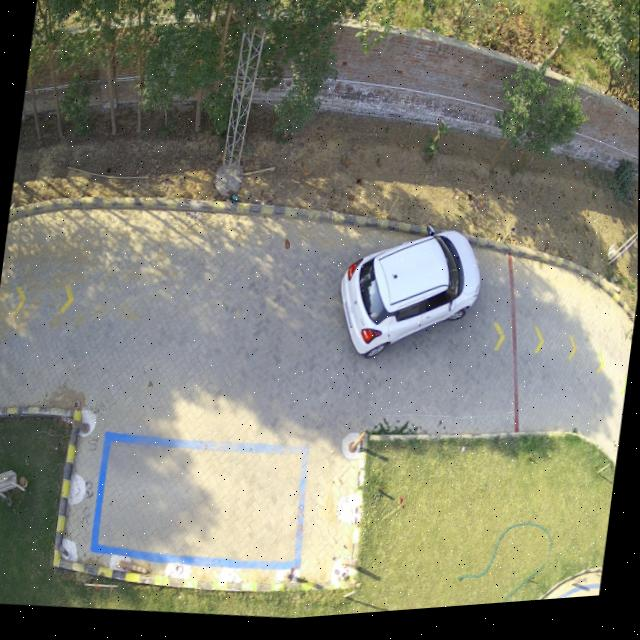car: (341, 239, 482, 364)
